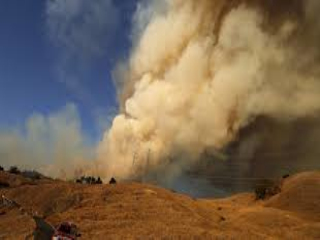smoke: (82, 13, 307, 177)
